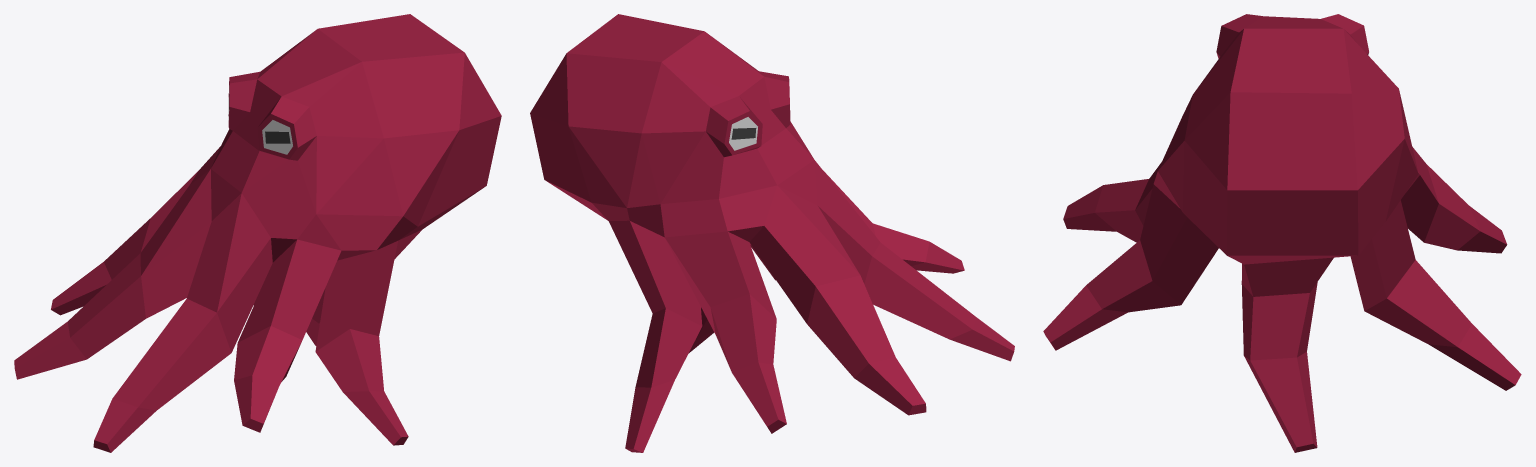
Rendered from frame_02.fbx.
The picture shows the model from 3 angles, left to right: view 1: azimuth 30°, elevation 25°; view 2: azimuth 150°, elevation 25°; view 3: azimuth 270°, elevation 25°; orthographic projection. The views are drawn at different scales.
Visible parts, largest first — view 1: Octopus.000; view 2: Octopus.000; view 3: Octopus.000.
Part boxes in pixels (x1,y1,x2,y2): Octopus.000: (14,14,501,452); Octopus.000: (530,14,1014,452); Octopus.000: (1043,14,1521,452).
Size of the model in its own units: 6.74 by 5.48 by 5.86.
